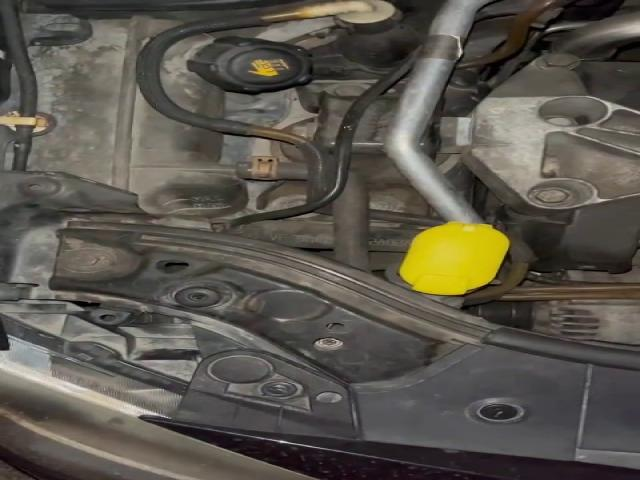antifreeze_tank: (31, 16, 223, 214), (159, 34, 314, 119)
